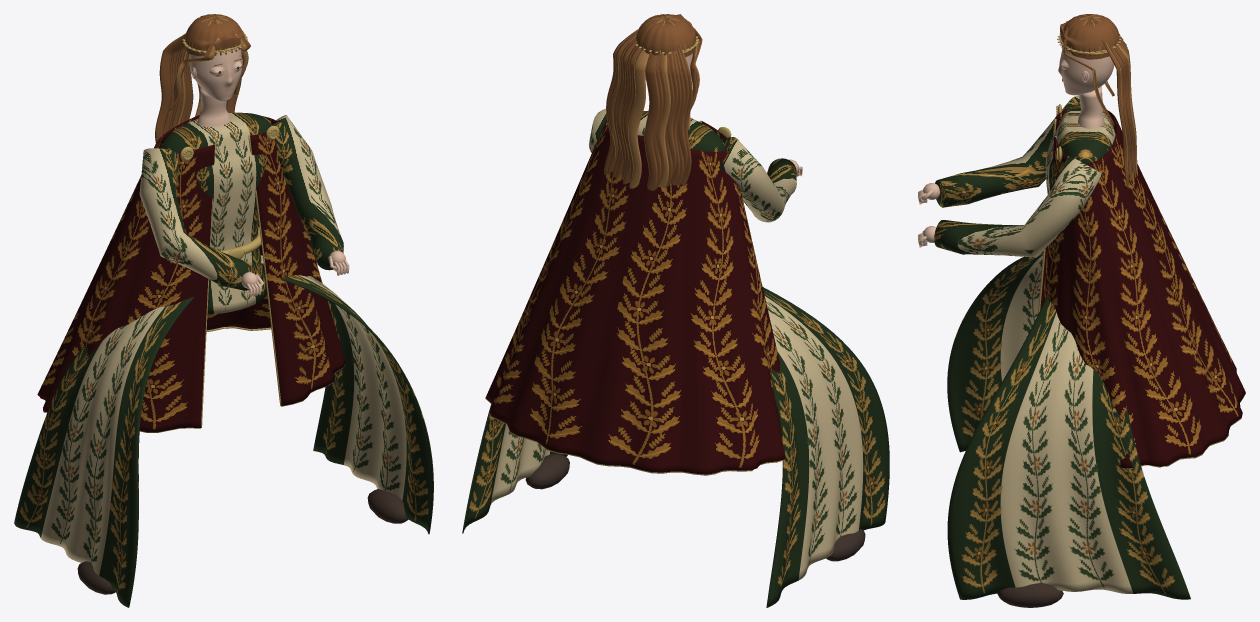
Rendered from princess-v15-mounted.glb.
3 views of the same model, side by side, from view 1: azimuth 30°, elevation 25°; view 2: azimuth 150°, elevation 25°; view 3: azimuth 270°, elevation 25° (orthographic).
Visible parts, largest first — view 1: MorrisPrincess_surface, cape_surface, body_surface, head_surface, armL_surface, armR_surface; view 2: cape_surface, MorrisPrincess_surface, head_surface, armL_surface, body_surface; view 3: MorrisPrincess_surface, cape_surface, armR_surface, head_surface, armL_surface, body_surface.
Boxes of the visible parts, left/top/right/bottom form: MorrisPrincess_surface: left=14, top=255, right=433, bottom=607; cape_surface: left=37, top=115, right=345, bottom=432; body_surface: left=160, top=87, right=279, bottom=314; head_surface: left=155, top=14, right=250, bottom=142; armL_surface: left=139, top=148, right=263, bottom=296; armR_surface: left=272, top=115, right=349, bottom=275; cape_surface: left=485, top=120, right=785, bottom=475; MorrisPrincess_surface: left=462, top=287, right=889, bottom=607; head_surface: left=604, top=14, right=702, bottom=190; armL_surface: left=718, top=137, right=802, bottom=222; body_surface: left=637, top=111, right=731, bottom=151; MorrisPrincess_surface: left=947, top=251, right=1190, bottom=607; cape_surface: left=1037, top=108, right=1245, bottom=469; armR_surface: left=918, top=156, right=1102, bottom=257; head_surface: left=1057, top=14, right=1137, bottom=188; armL_surface: left=918, top=95, right=1080, bottom=207; body_surface: left=1045, top=86, right=1115, bottom=194.
Size of the model in its own units: 0.948 by 1.46 by 0.8373.
Materials: 12 (2 with a texture image).
